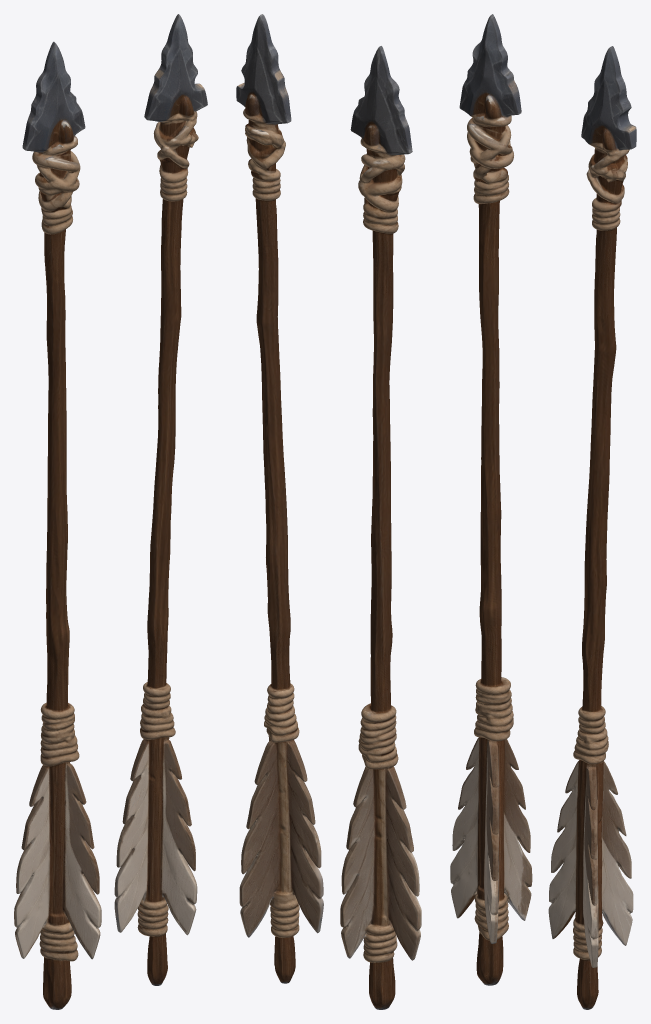
The model's file is arrow.glb.
3 renders of one model, left to right at view 1: azimuth 30°, elevation 25°; view 2: azimuth 150°, elevation 25°; view 3: azimuth 330°, elevation 25°, orthographic.
Bounding box in the file's own units: 0.3867 × 1.9 × 0.1521.
1 material, 1 textured.
